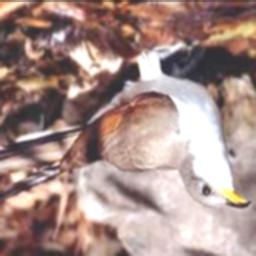Cuckoo: (0, 47, 251, 209)
